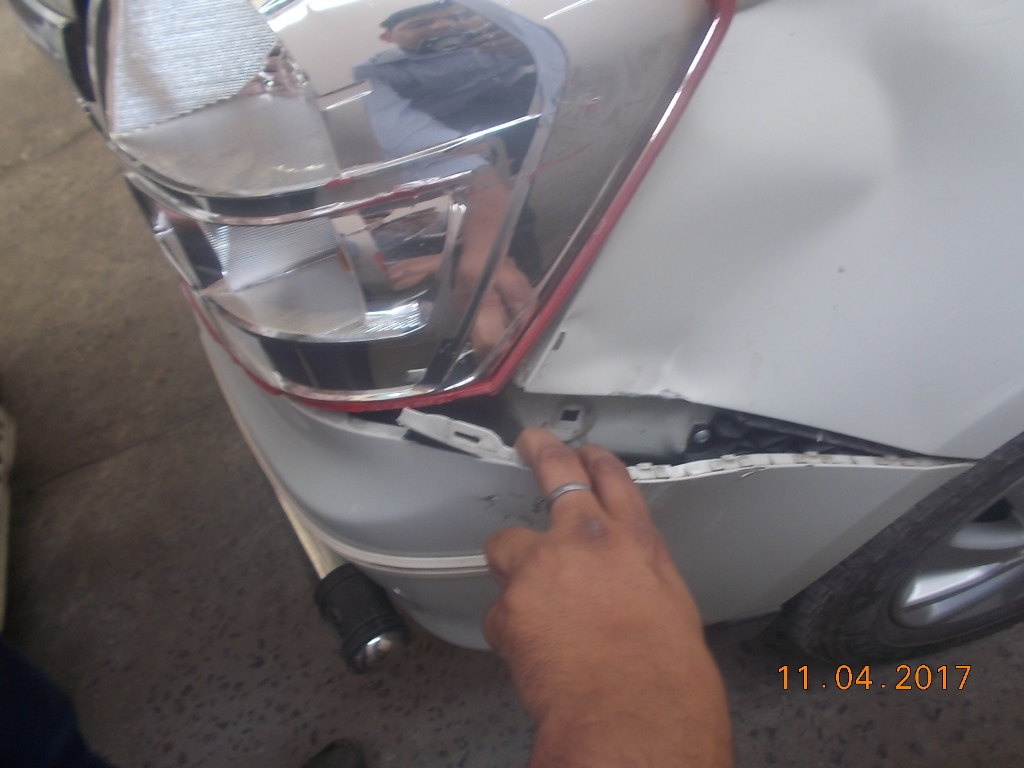Dislocation: (472, 348, 906, 518)
